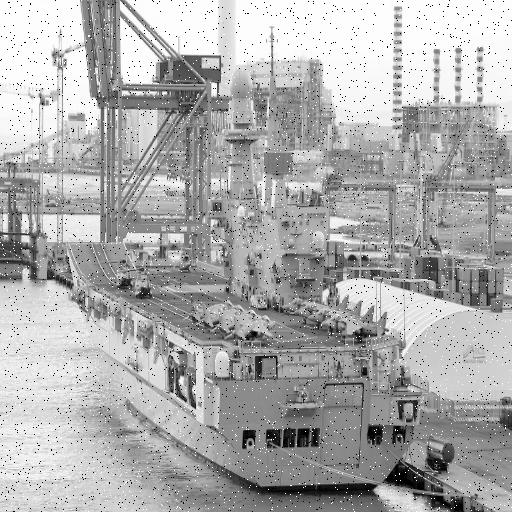Portanaves: (66, 58, 426, 498)
